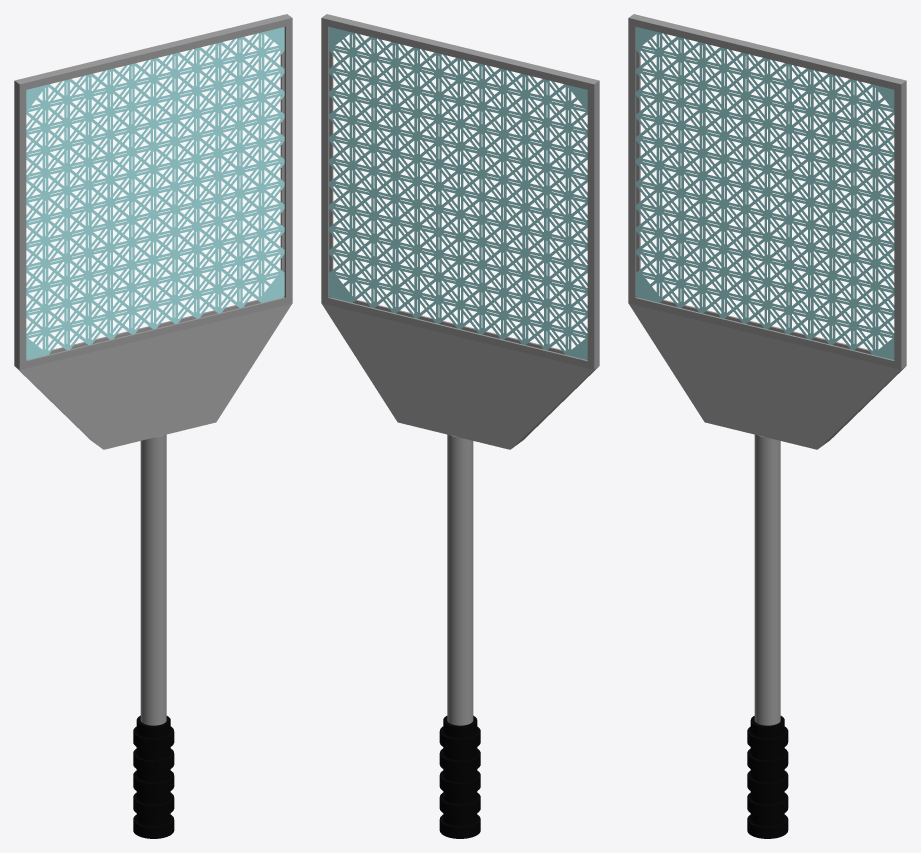
The model's file is Swat-o-matic.fbx.
The picture shows the model from 3 angles, left to right: view 1: azimuth 30°, elevation 25°; view 2: azimuth 150°, elevation 25°; view 3: azimuth 330°, elevation 25°; orthographic projection.
Visible parts, largest first — view 1: Cylinder.001; view 2: Cylinder.001; view 3: Cylinder.001.
Boxes of the visible parts, x1=… form: Cylinder.001: x1=14, y1=14, x2=292, y2=838; Cylinder.001: x1=321, y1=14, x2=599, y2=838; Cylinder.001: x1=628, y1=14, x2=906, y2=838.
Bounding box in the file's own units: 6.72 × 141 × 51.6.
1 material, 1 textured.
